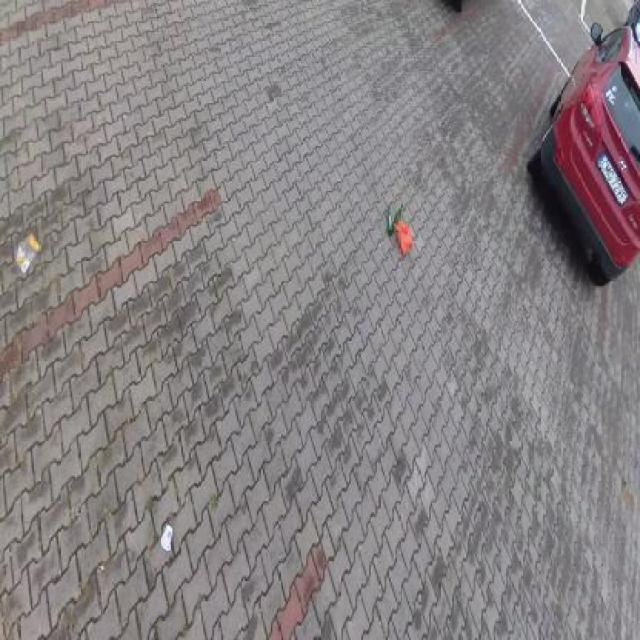Garbage: (14, 231, 40, 277), (392, 221, 416, 257), (158, 526, 173, 550), (386, 208, 393, 236), (395, 204, 402, 226)
